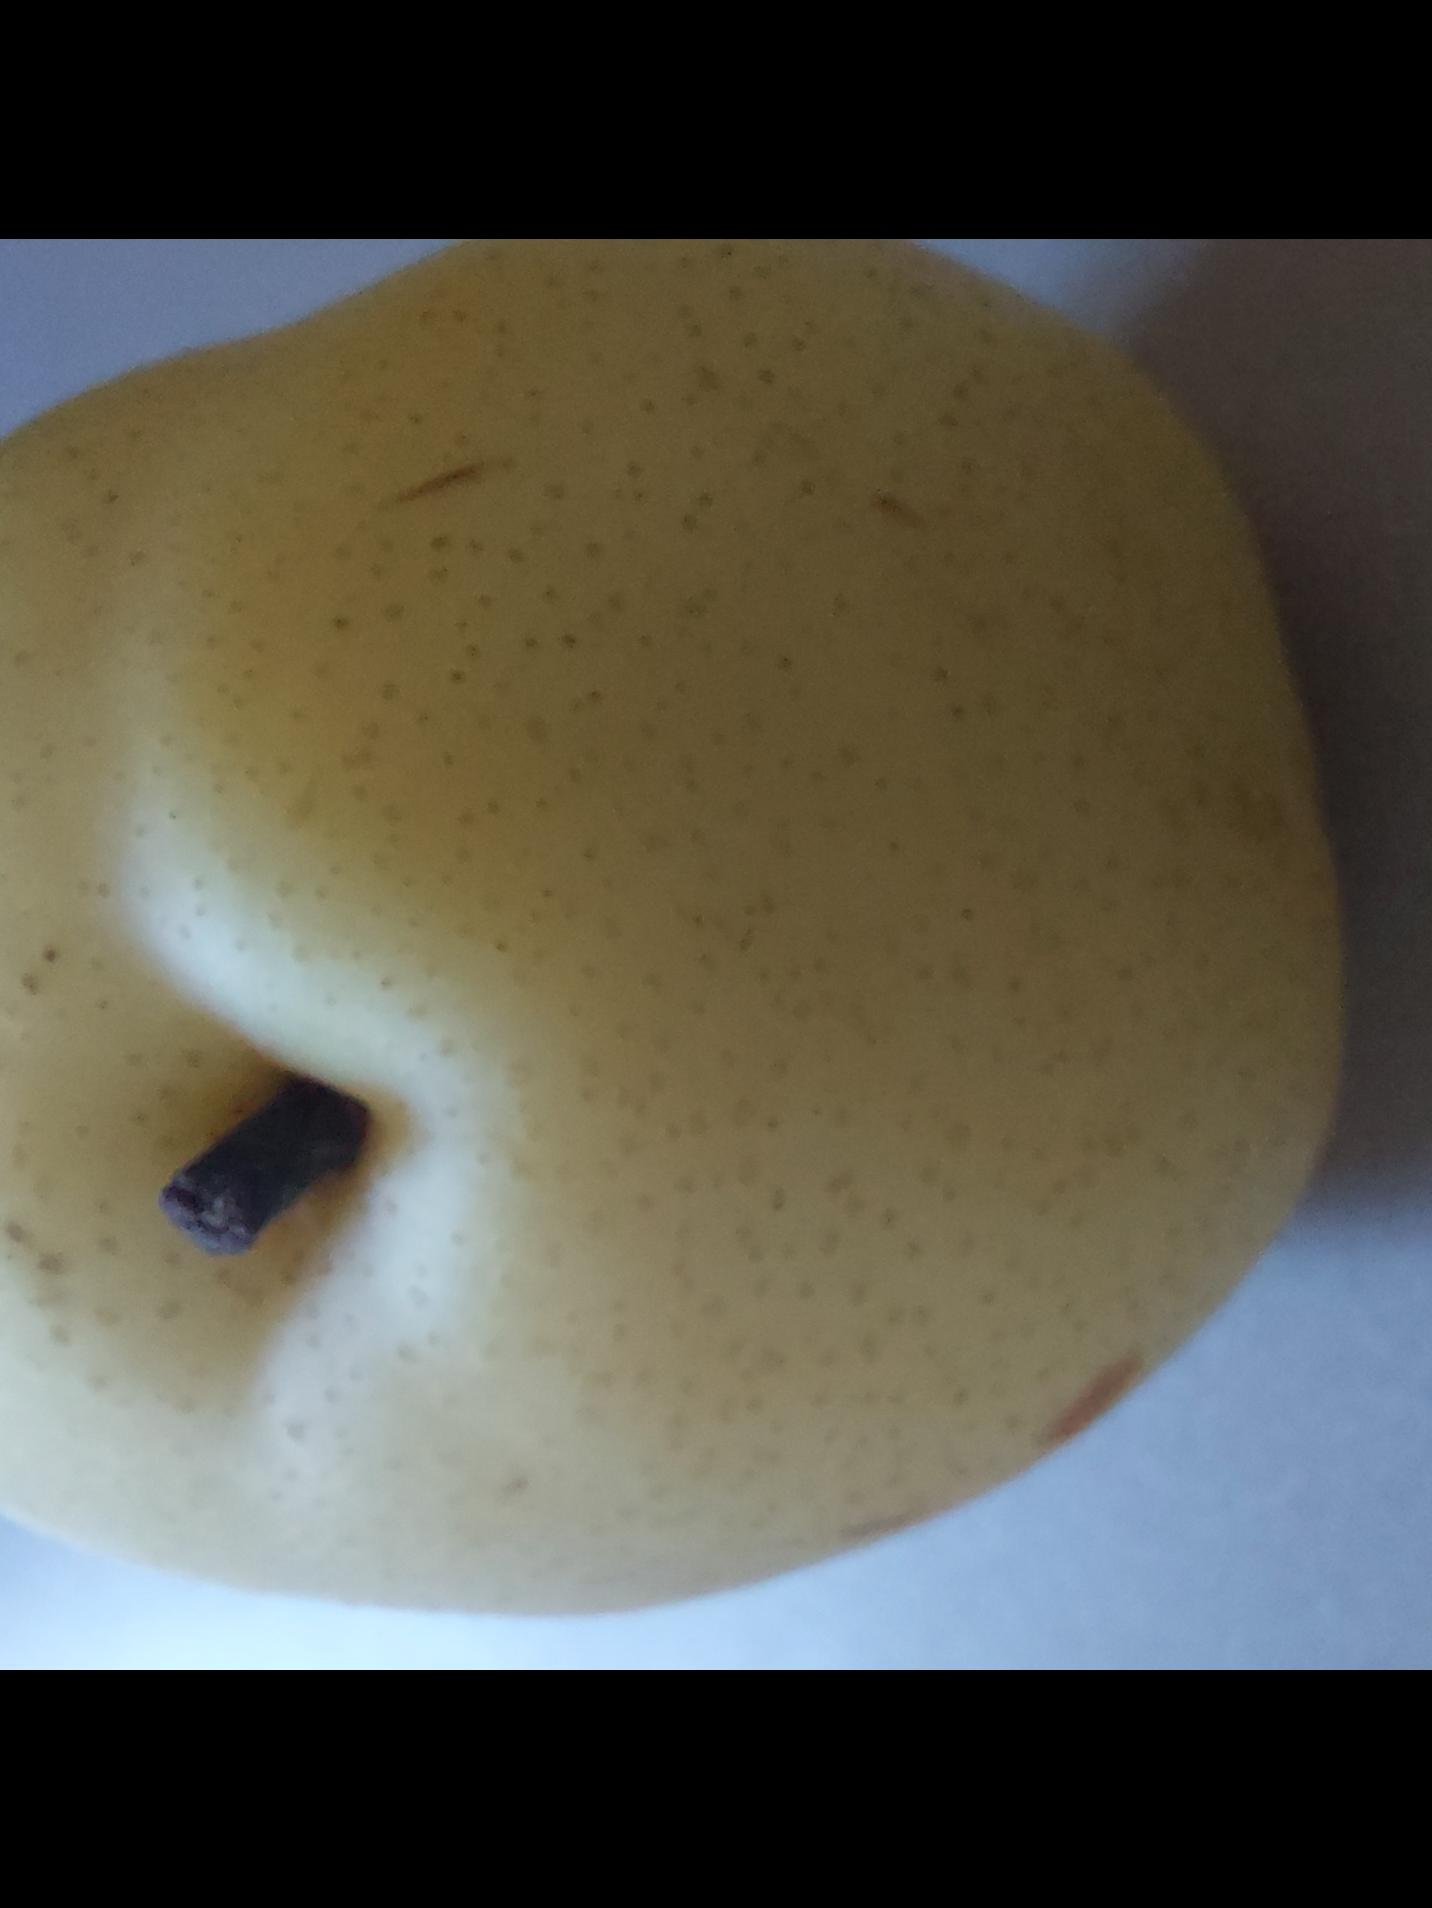Good Pear: (0, 238, 1427, 1670)
